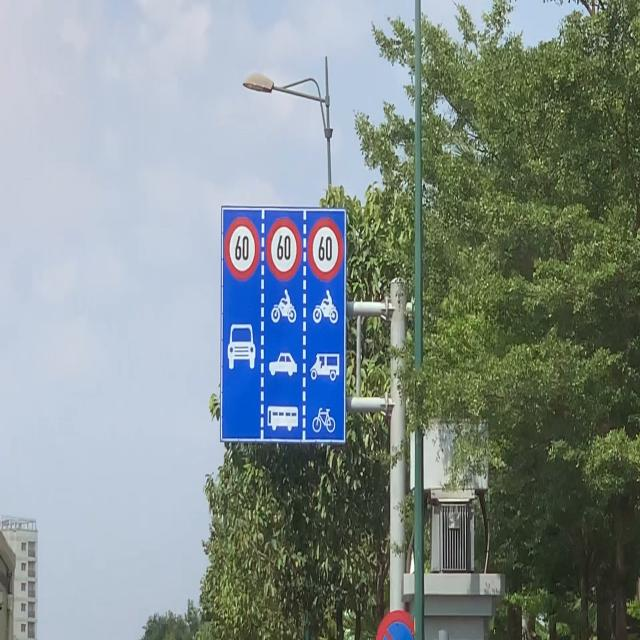Toc do toi da: (224, 216, 264, 282), (307, 220, 344, 287), (263, 215, 300, 280)
